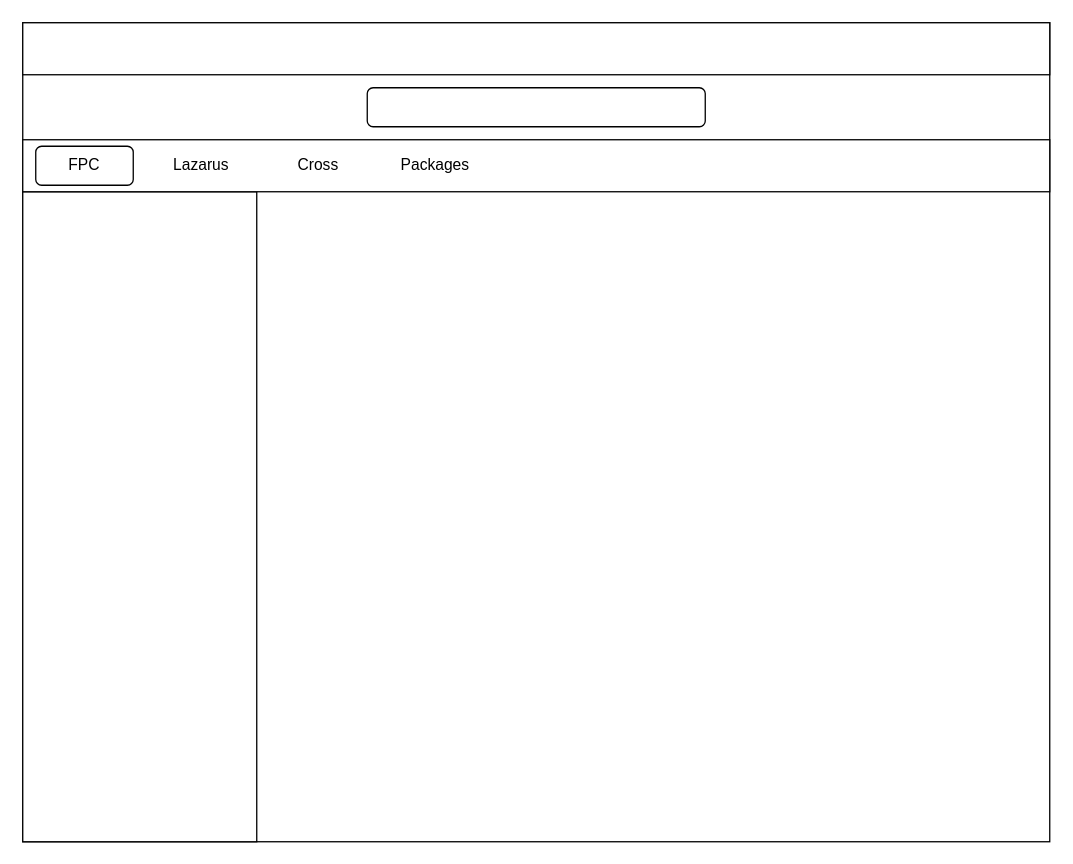
Some shapes in this 1073 by 864 pixel diagram are drawn without their labels. Each missing label, with the centre of its shape:
"terminal" belongs at point (535, 48).
"Workspace | D:/Devtools/lazarus" belongs at point (535, 106).
